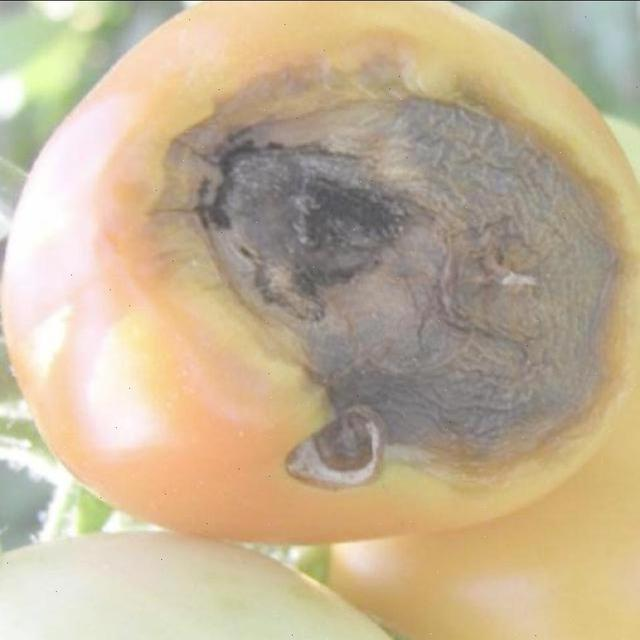Blossom End Rot Fruit: (120, 37, 423, 331)
